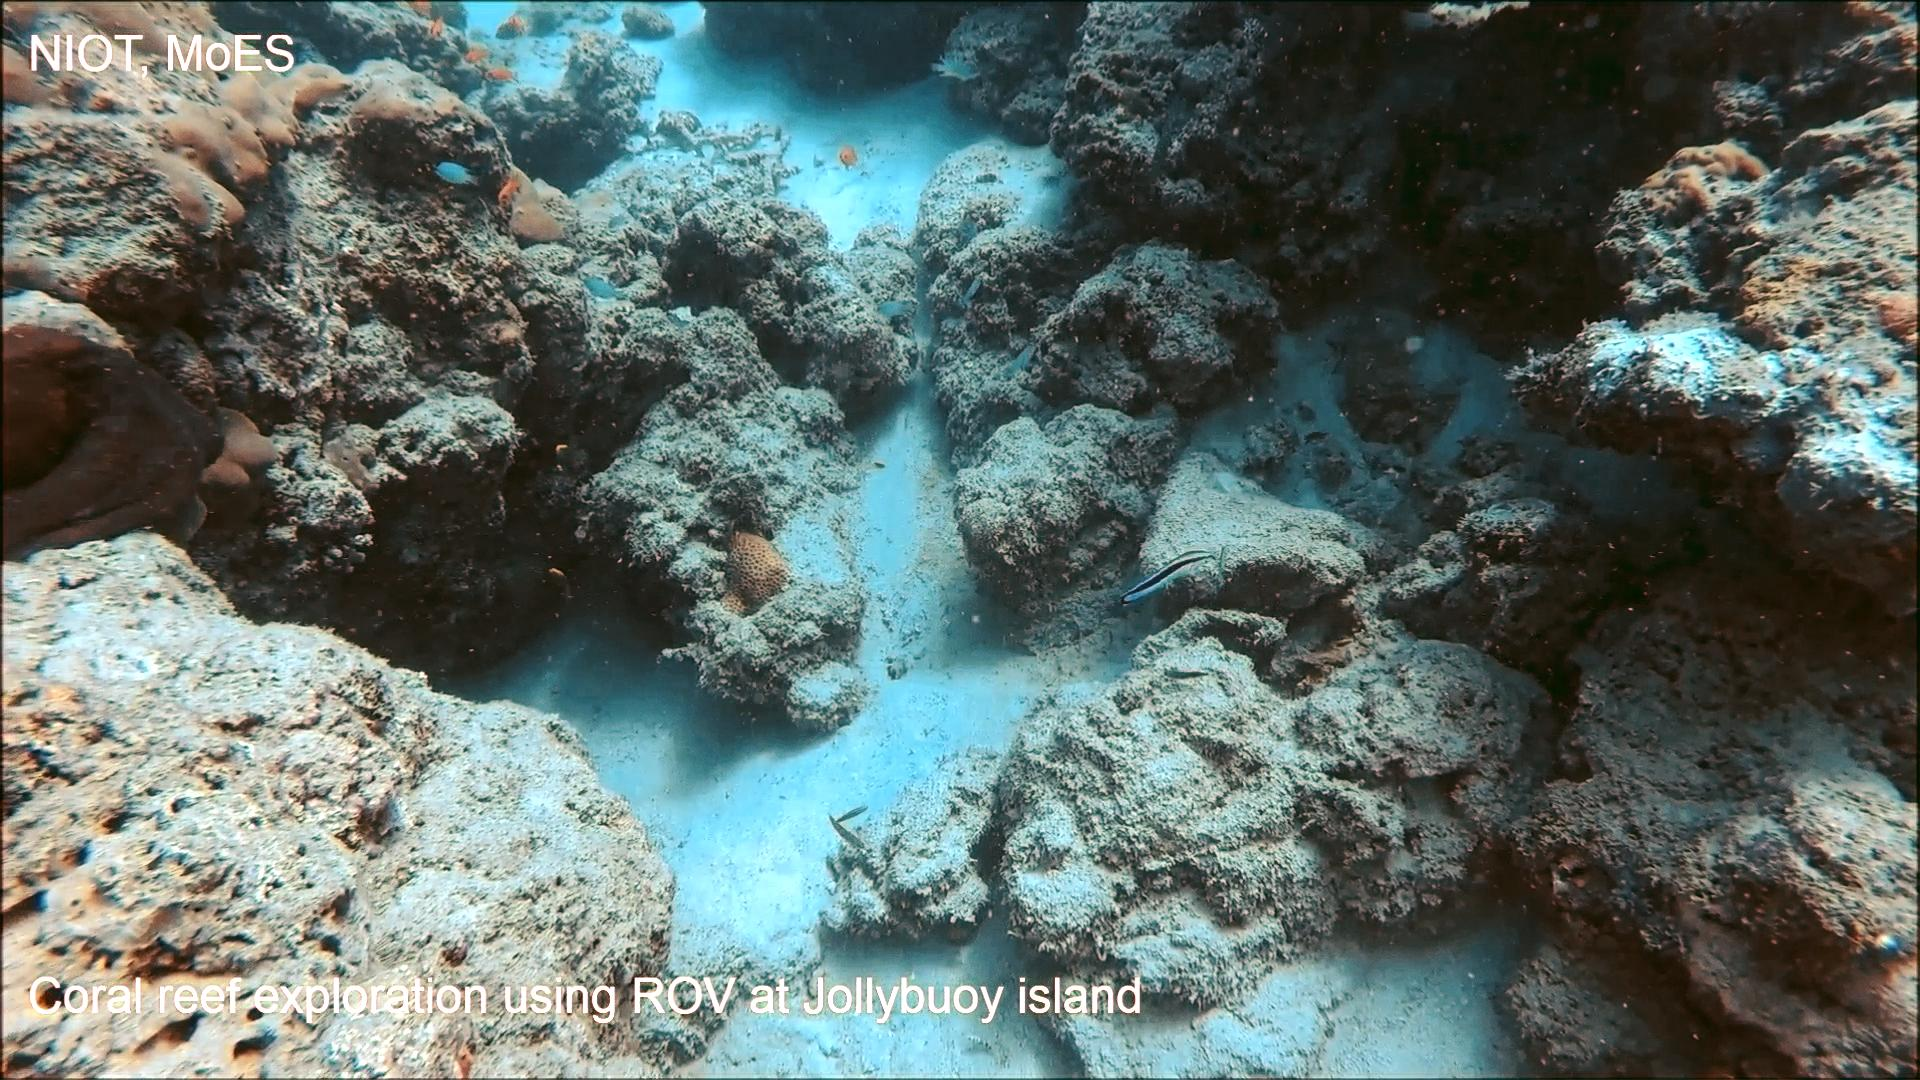Porites-Porites pukoensis: (0, 0, 361, 245)
